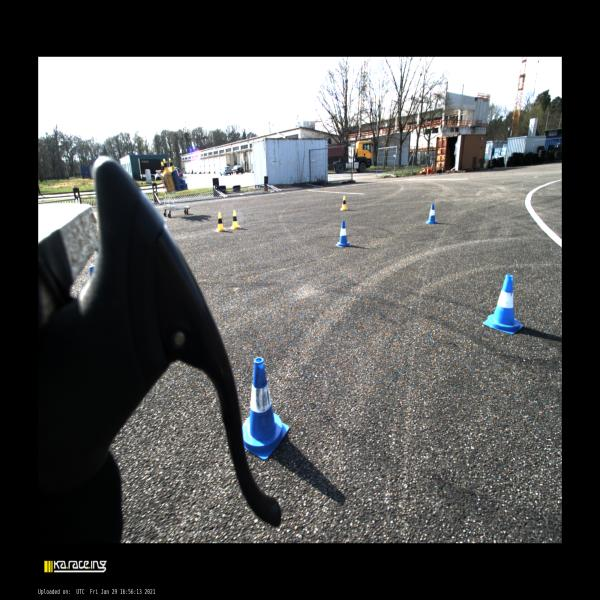blue_cone: (242, 357, 289, 460), (482, 274, 524, 334), (336, 220, 351, 247), (425, 203, 438, 224), (181, 172, 186, 184)
large_orange_cone: (427, 167, 429, 174)
orange_cone: (431, 162, 434, 168)
yellow_cone: (230, 210, 241, 229), (216, 212, 226, 232), (340, 196, 348, 211), (169, 158, 176, 172), (163, 158, 170, 172), (161, 162, 165, 174)
